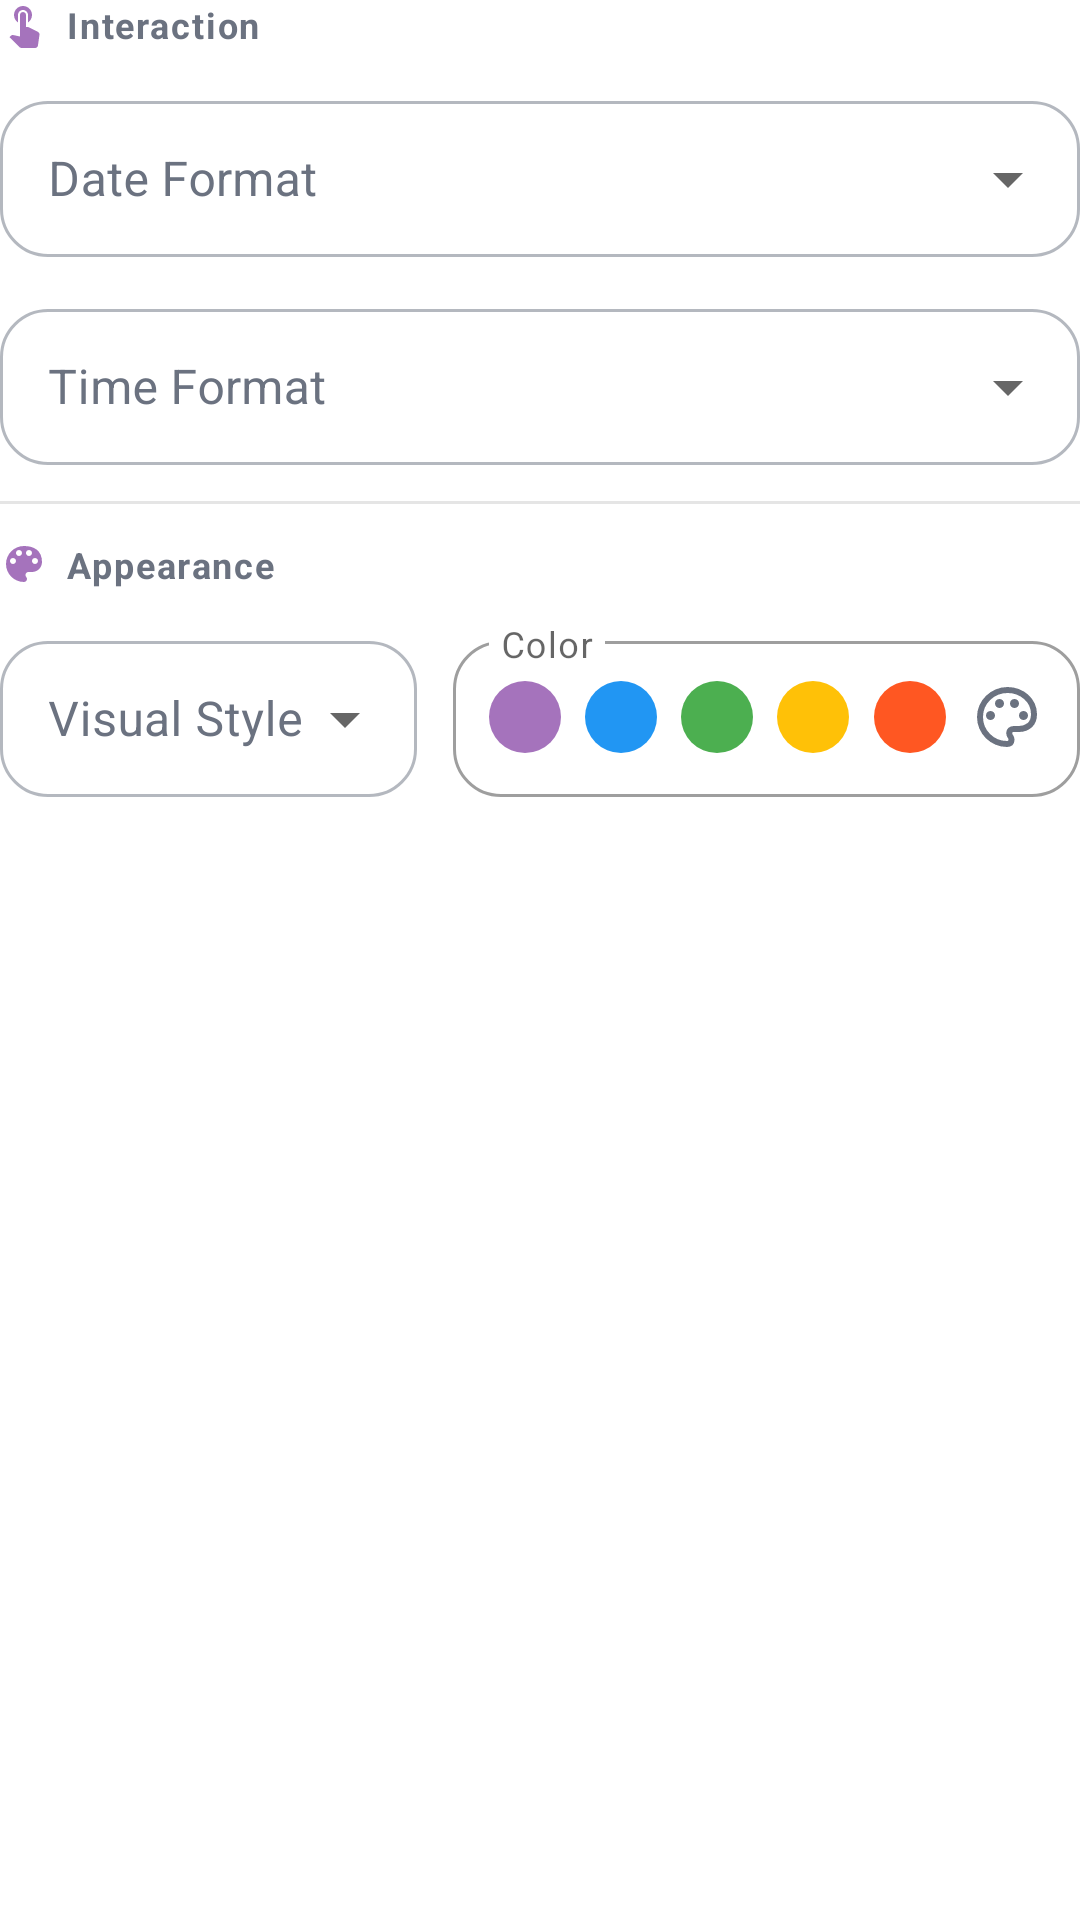

Icons on this 1080px x 1920px Android screen, each with the point to tap as [x,y]:
palette: [24,564]
palette open: [1007,717]
touch app: [24,27]
